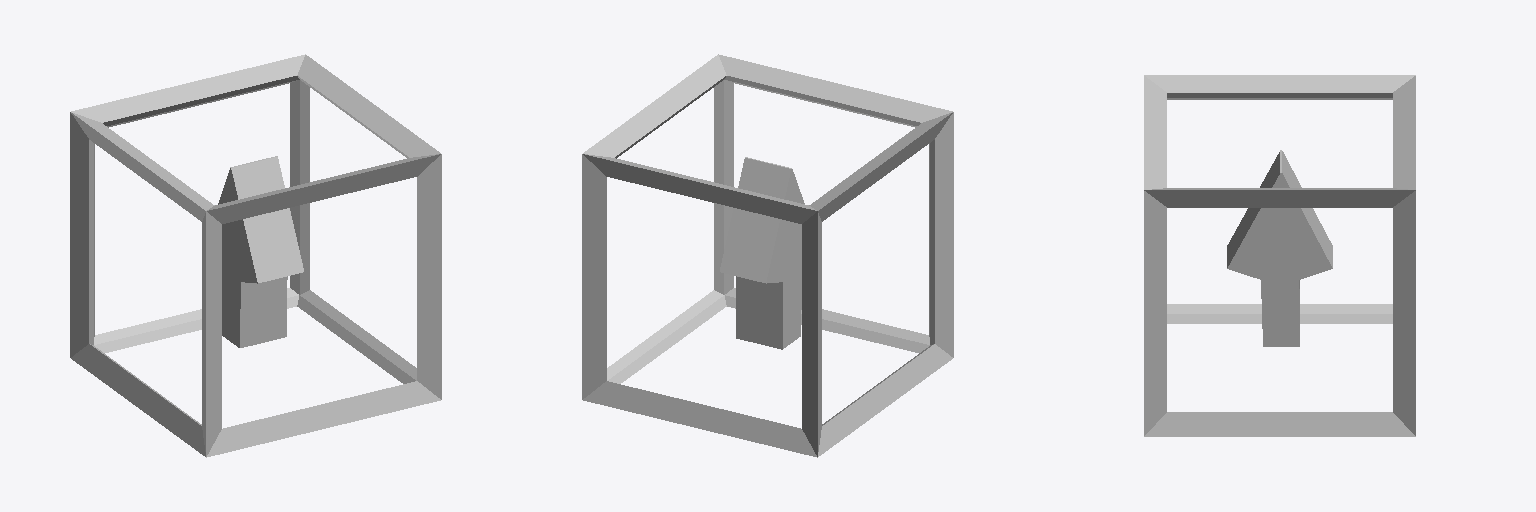
The model's file is arrow.obj.
3 views of the same model, side by side, from view 1: azimuth 30°, elevation 25°; view 2: azimuth 150°, elevation 25°; view 3: azimuth 270°, elevation 25° (orthographic).
Visible parts, largest first — view 1: ArrowObj_Plane; view 2: ArrowObj_Plane; view 3: ArrowObj_Plane.
Boxes of the visible parts, x1,y1,x2,y2 form: ArrowObj_Plane: [70, 54, 441, 457]; ArrowObj_Plane: [582, 54, 953, 457]; ArrowObj_Plane: [1144, 75, 1415, 436].
Bounding box in the file's own units: 2.13 × 2.13 × 2.13.